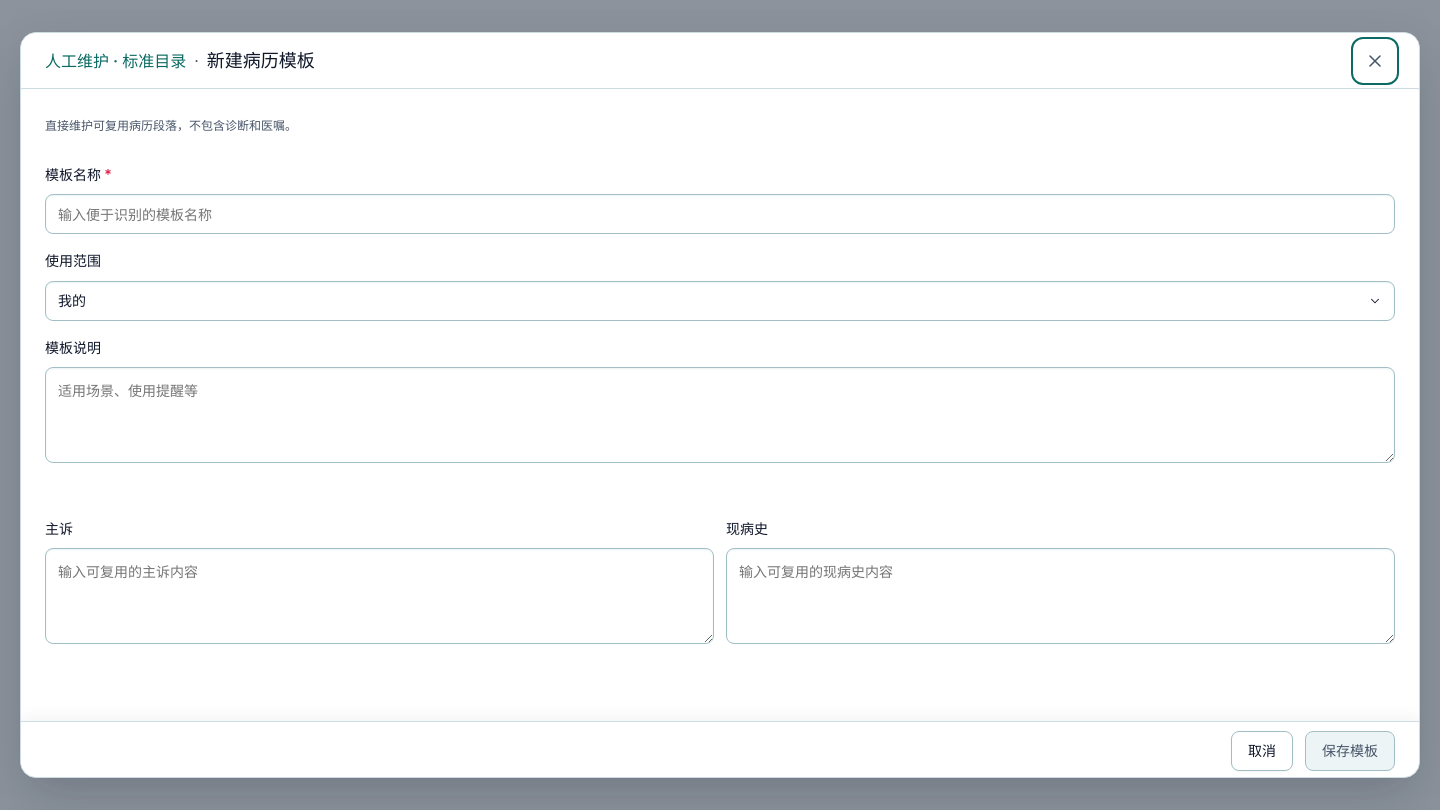
Test: template maintenance acknowledgment and lifecycle › keeps manual note input after a missing receipt
Type "新病历模板" into the field with placeholder "输入便于识别的模板名称".
click(720, 214); type("新病历模板")  # box 45,194 -> 1395,234
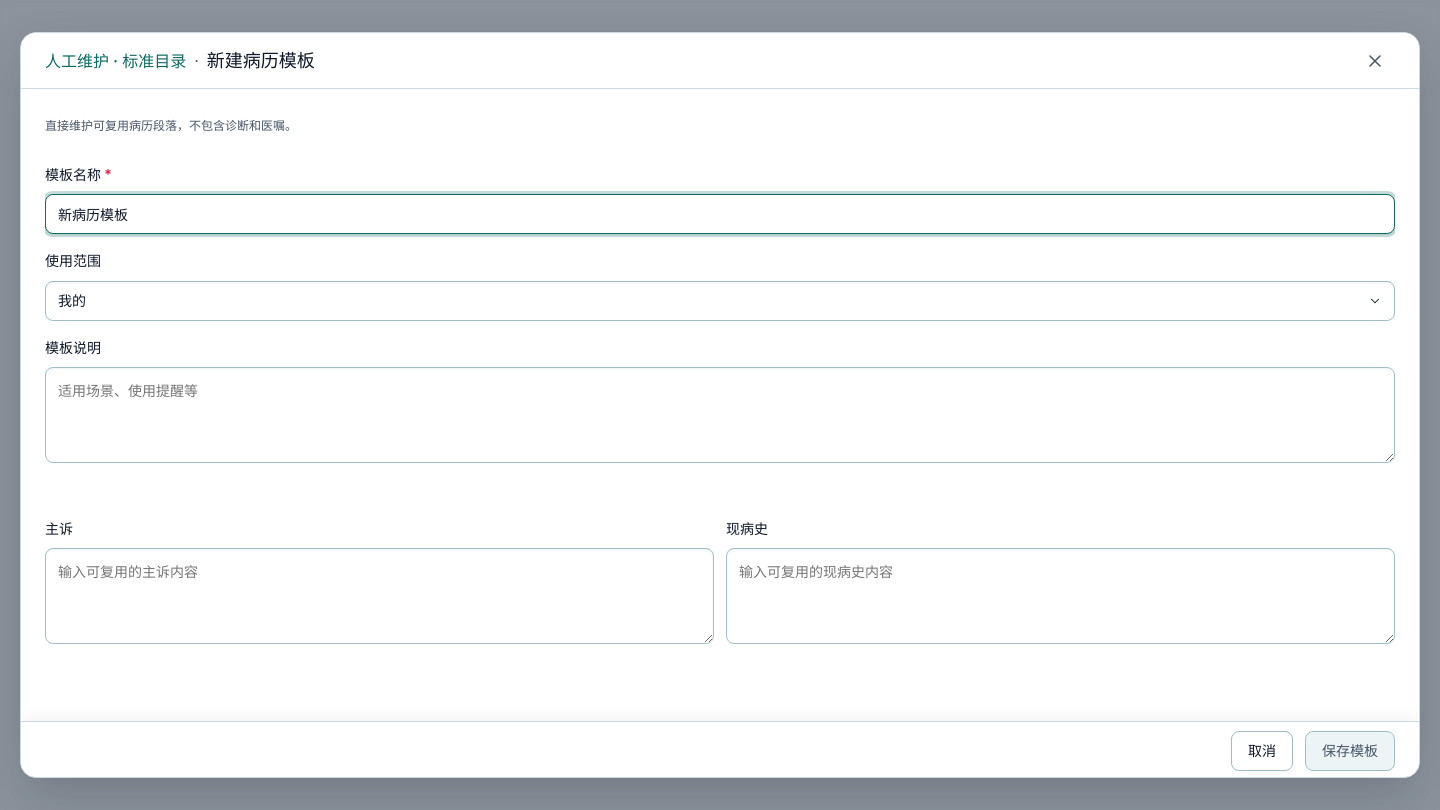
Type "原始主诉" into the text box with placeholder "输入可复用的主诉内容".
click(380, 596); type("原始主诉")  # box 45,548 -> 714,644
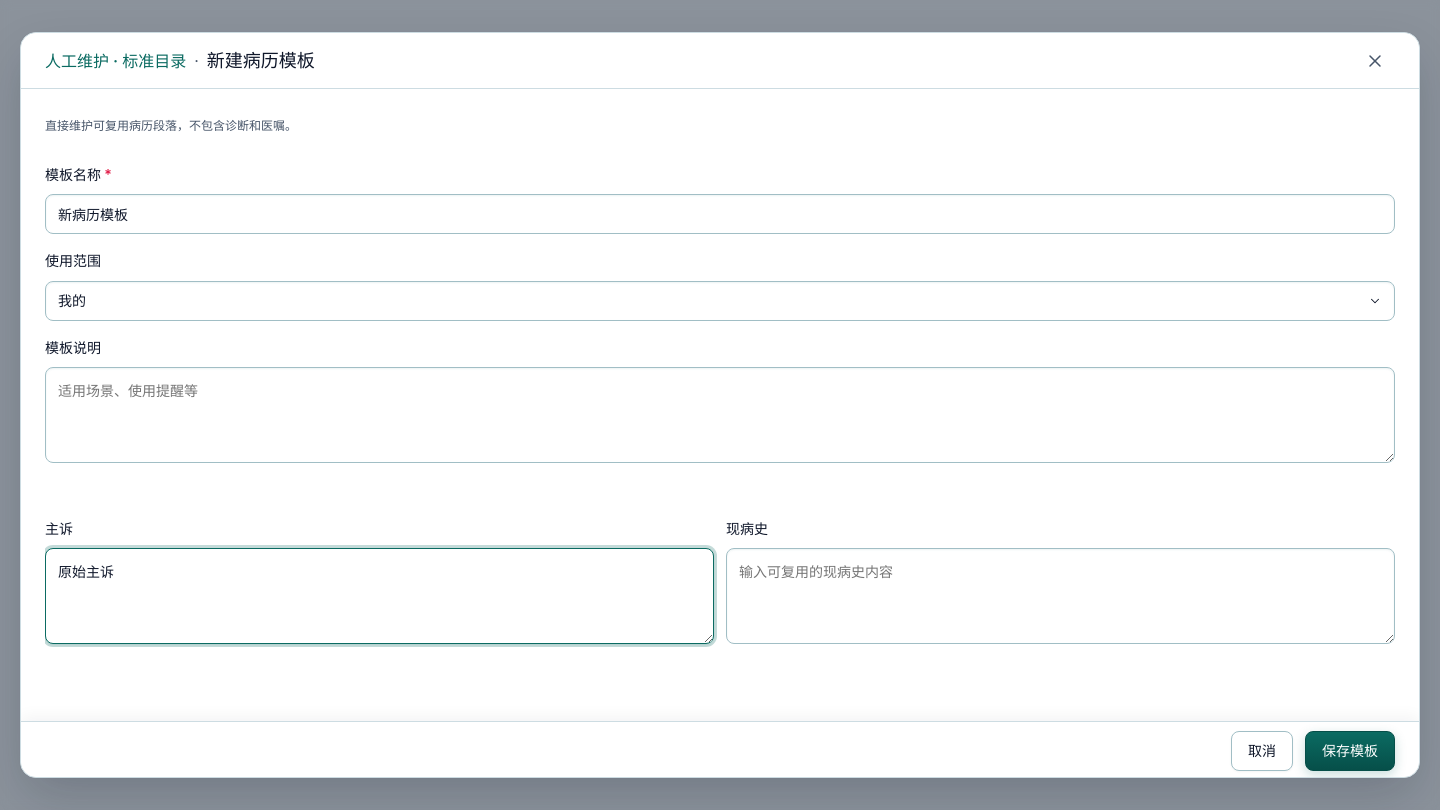
Click the button "保存模板".
click(1350, 751)  # box 1305,731 -> 1395,771
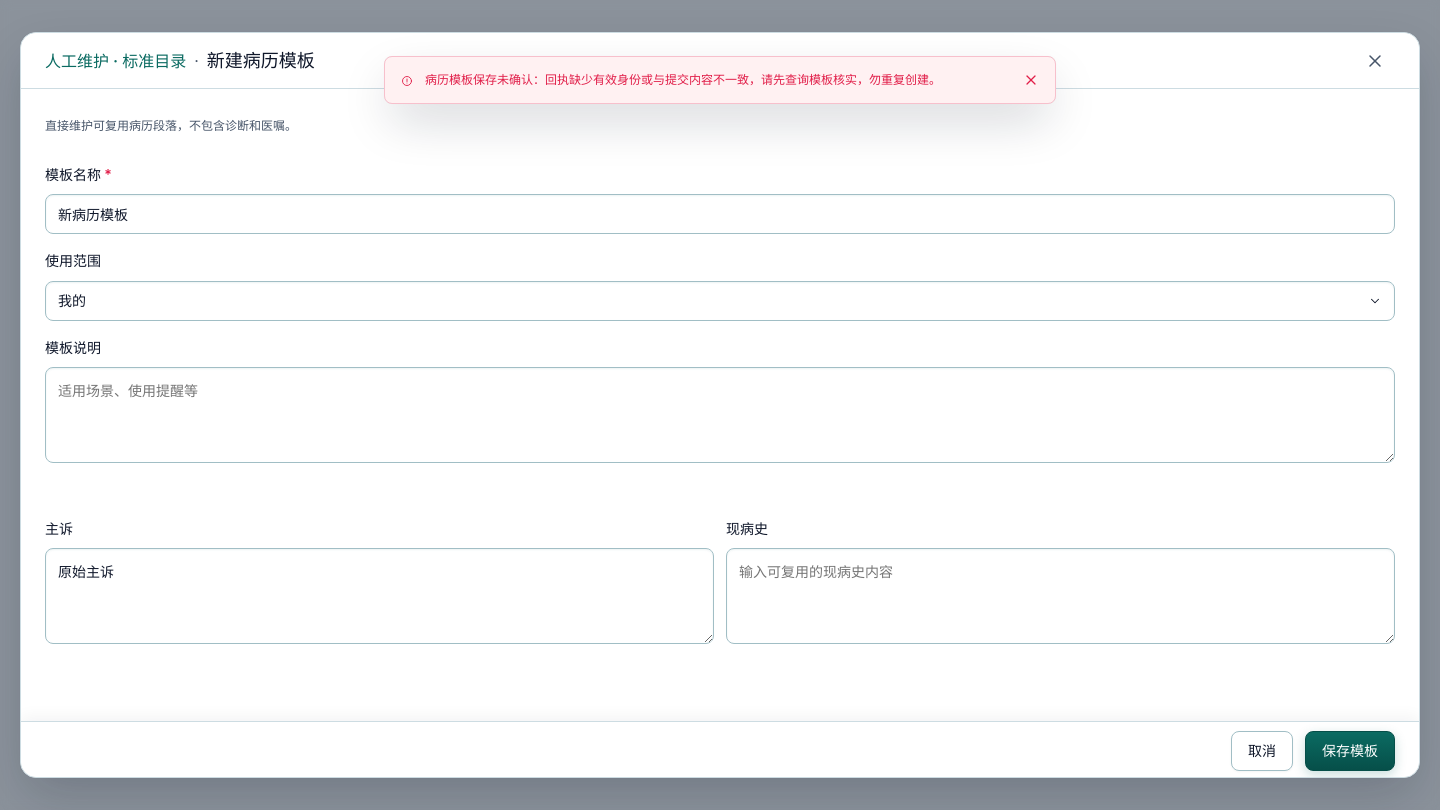
Expected: the message shows "保存未确认", 425,72 -> 941,87
